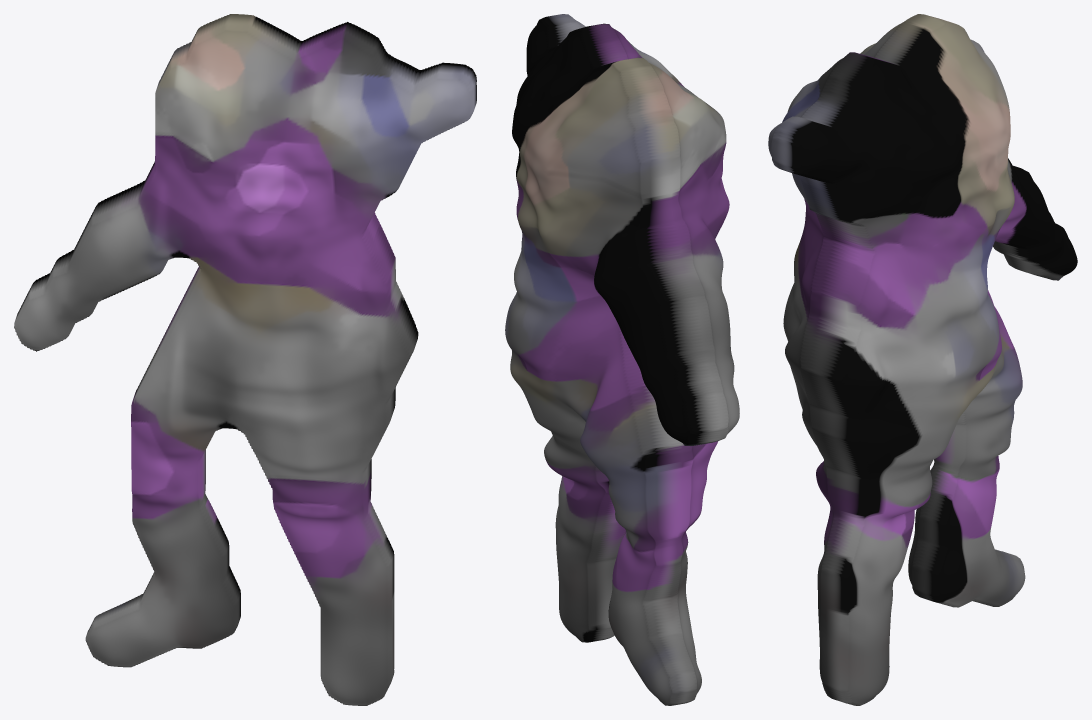
Rendered from yuri_initiate.glb.
The picture shows the model from 3 angles, left to right: view 1: azimuth 30°, elevation 25°; view 2: azimuth 150°, elevation 25°; view 3: azimuth 270°, elevation 25°; orthographic projection. The views are drawn at different scales.
Visible parts, largest first — view 1: yuri_initiate; view 2: yuri_initiate; view 3: yuri_initiate.
Part boxes in pixels (x1=…): yuri_initiate: x1=14, y1=14, x2=476, y2=705; yuri_initiate: x1=505, y1=14, x2=739, y2=705; yuri_initiate: x1=768, y1=14, x2=1077, y2=705.
Bounding box in the file's own units: 1.16 × 2.23 × 0.9727.
